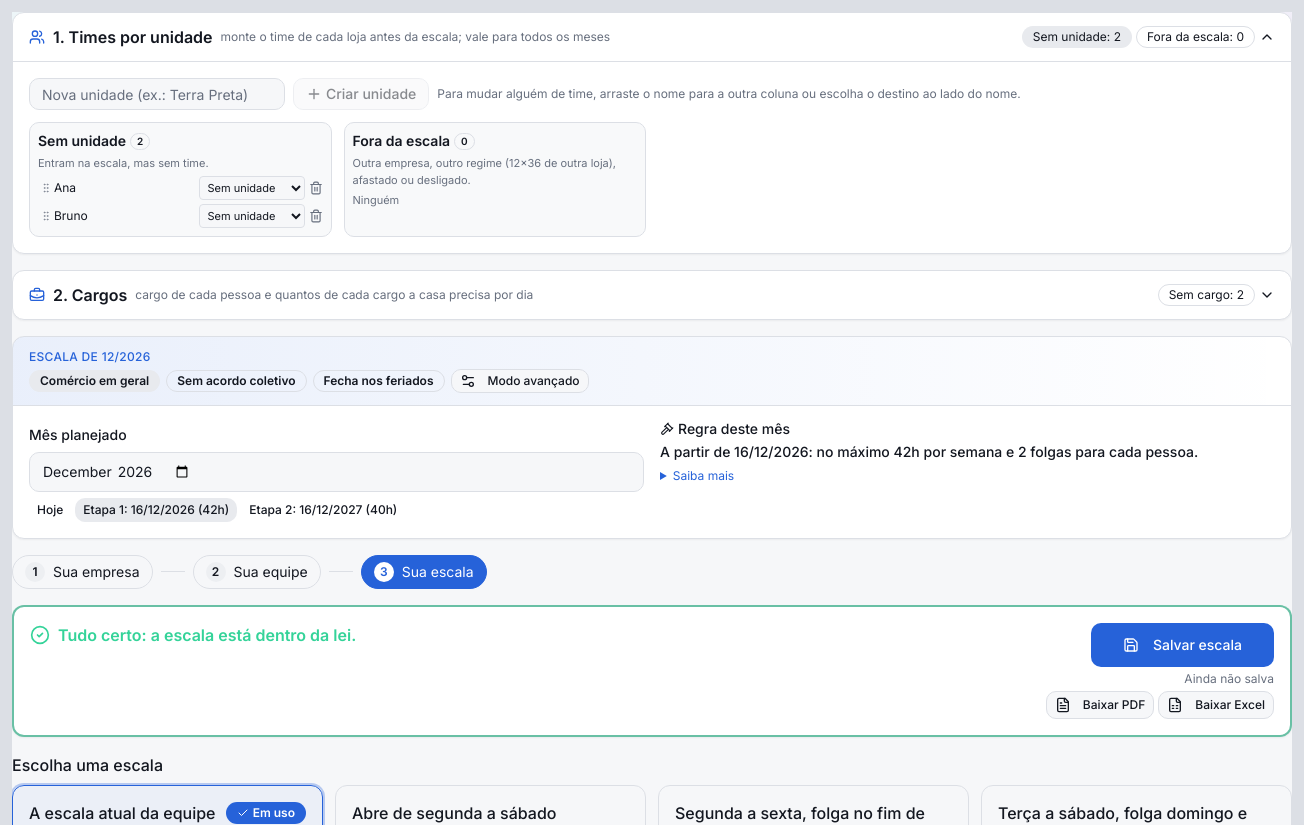
Test case: caminho guiado na tela › modo avançado mostra as abas completas
This screenshot has width=1304, height=825.
Expected: the heading "Escolha uma escala" is shown, [12, 754, 163, 774]
Click the button "Modo avançado".
click(520, 380)  # box [450, 368, 589, 392]
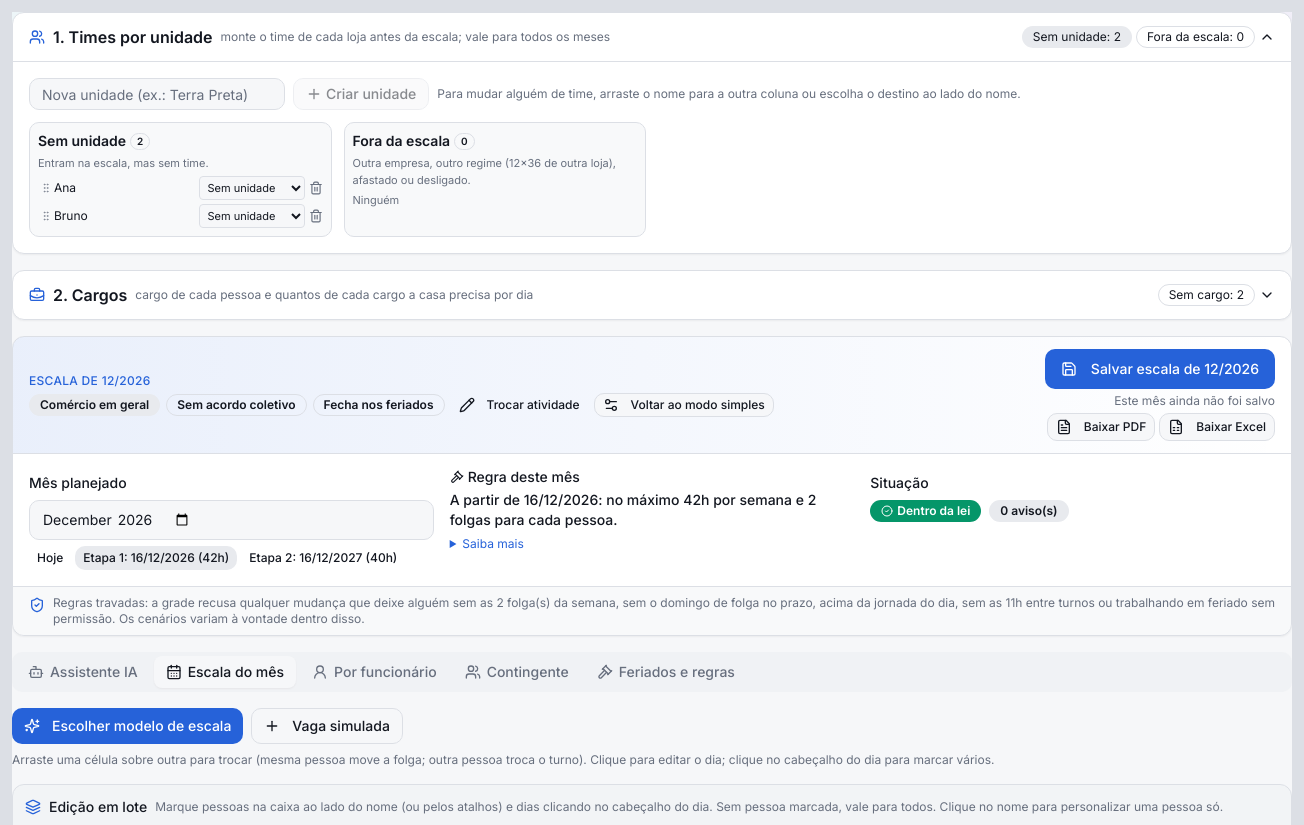
Expected: the tab "Escala do mês" is shown, [154, 656, 296, 688]
